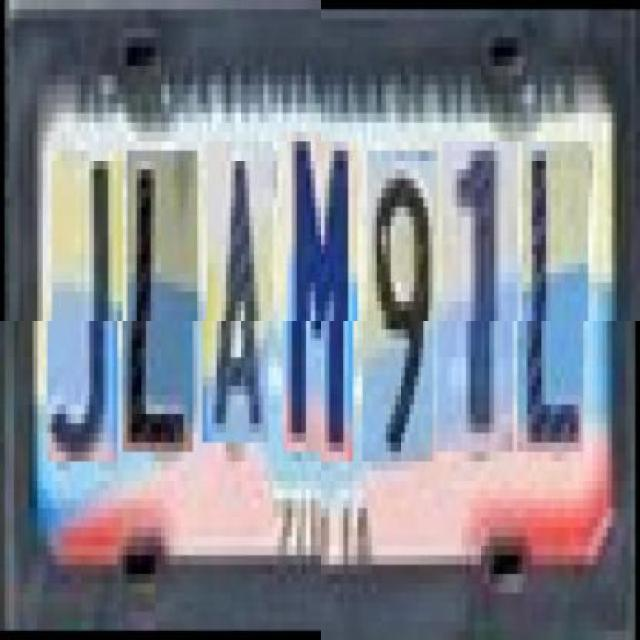1: (442, 140, 518, 452)
9: (367, 150, 438, 462)
a: (207, 150, 273, 452)
j: (51, 160, 122, 471)
l: (127, 160, 198, 462), (522, 140, 588, 452)
m: (287, 141, 358, 461)
